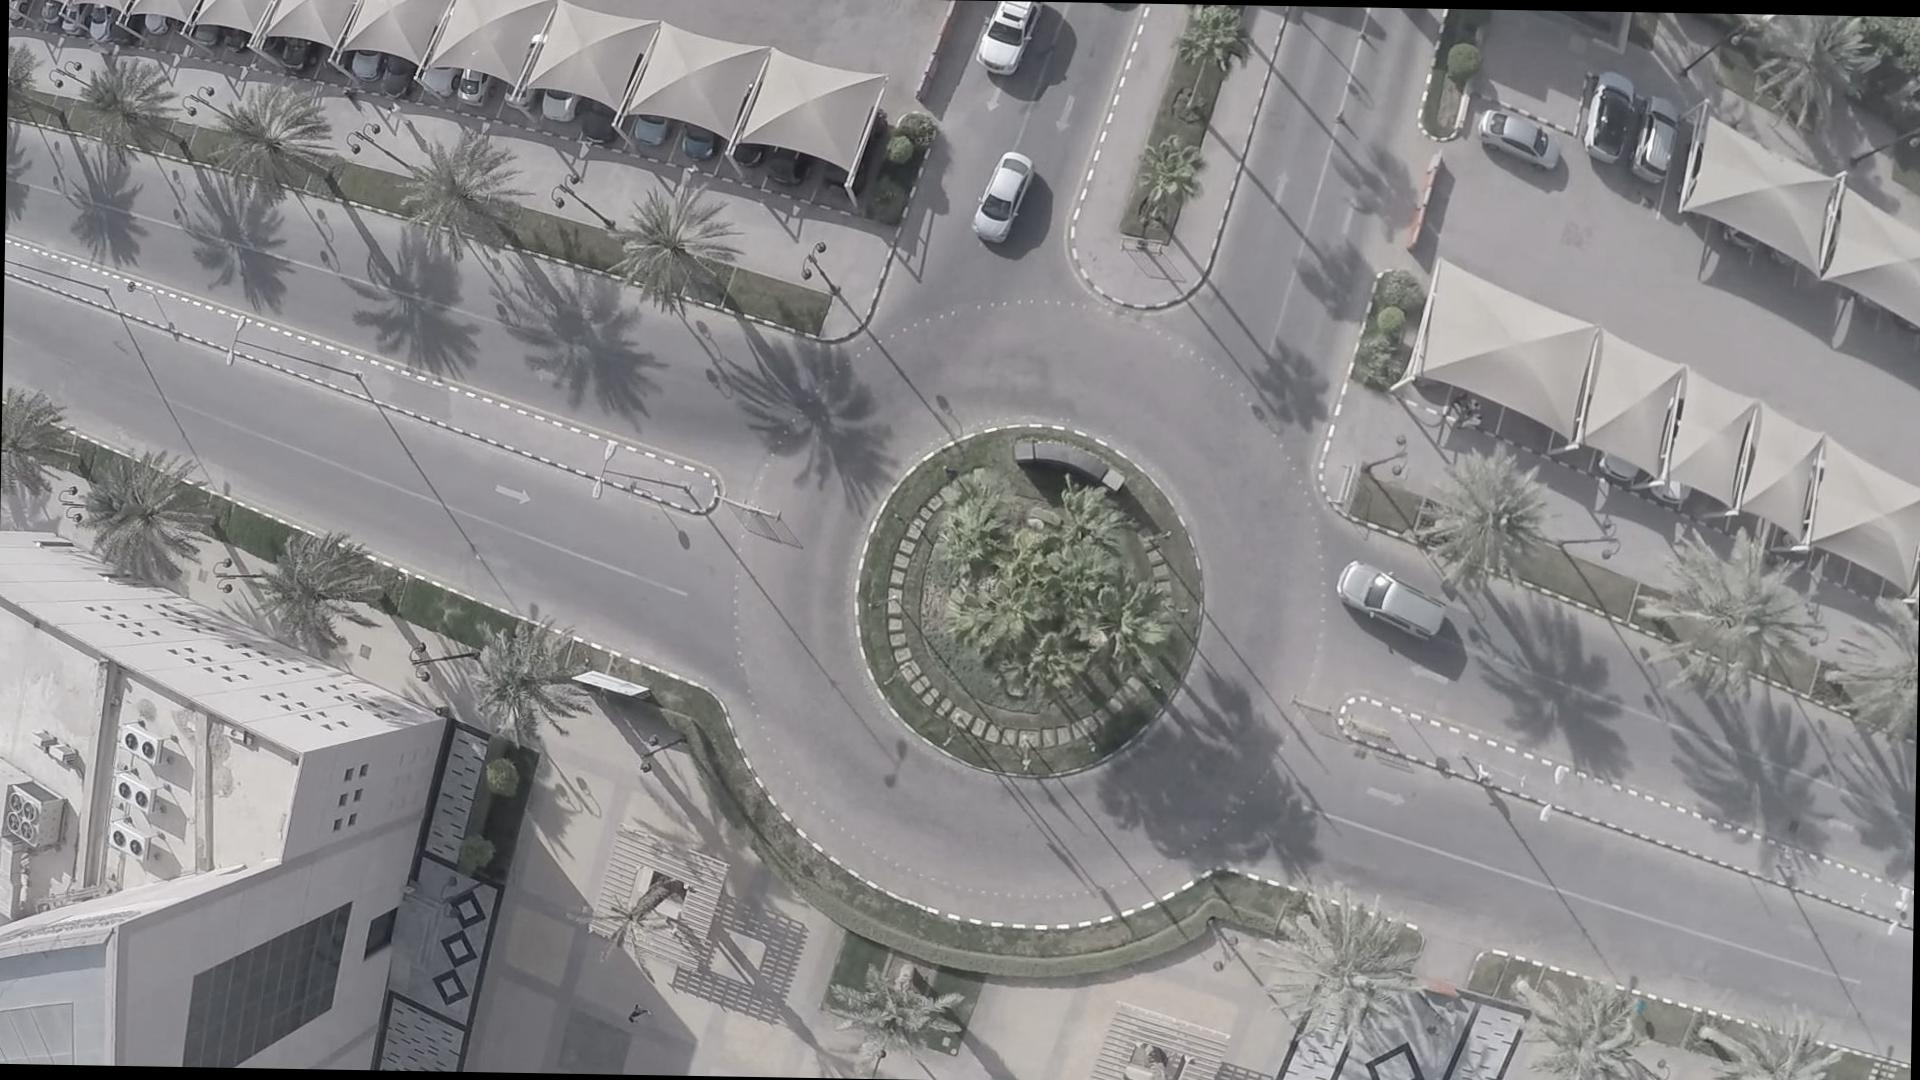vehicle: (1333, 554, 1466, 642), (981, 144, 1022, 252)
